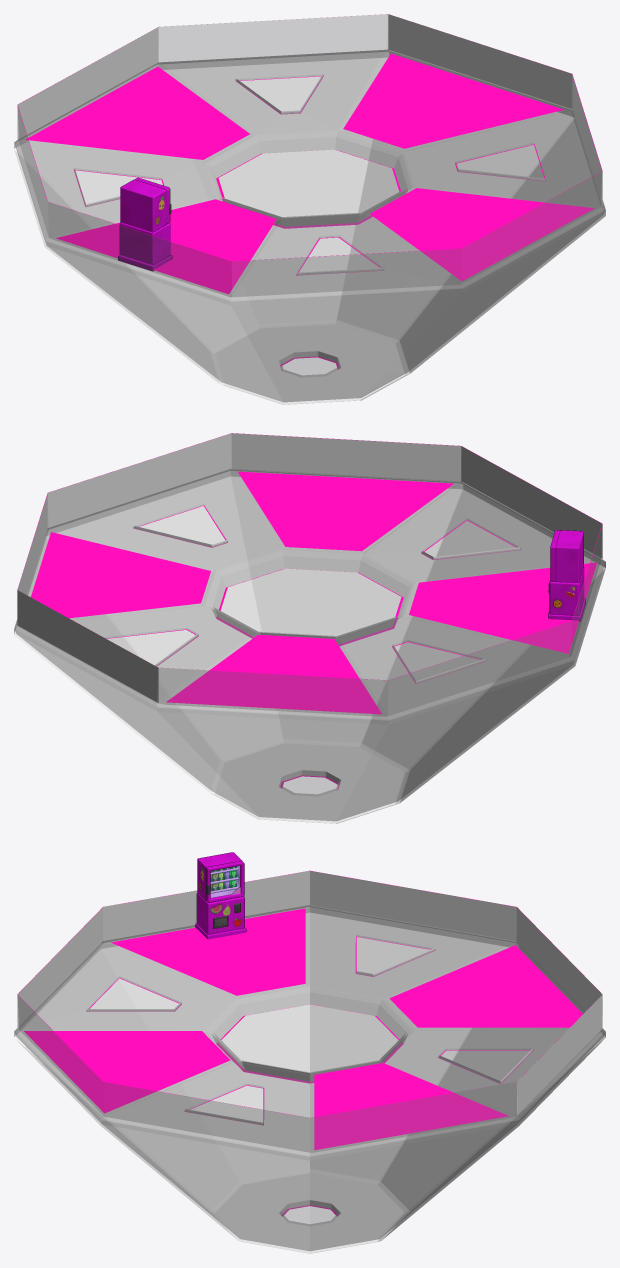
File: simple-ground-3.glb
The picture shows the model from 3 angles, top to bottom: view 1: azimuth 30°, elevation 25°; view 2: azimuth 150°, elevation 25°; view 3: azimuth 270°, elevation 25°; orthographic projection. The views are drawn at different scales.
Visible parts, largest first — view 1: Cylinder, vending_Machine; view 2: Cylinder, vending_Machine; view 3: Cylinder, vending_Machine.
Boxes of the visible parts, x1=… form: Cylinder: x1=14, y1=14, x2=605, y2=404; vending_Machine: x1=118, y1=177, x2=172, y2=271; Cylinder: x1=14, y1=433, x2=605, y2=823; vending_Machine: x1=548, y1=530, x2=585, y2=621; Cylinder: x1=14, y1=870, x2=605, y2=1253; vending_Machine: x1=195, y1=852, x2=246, y2=939.
Size of the model in its own units: 16.72 by 8.06 by 16.72.
8 materials, 4 textured.
